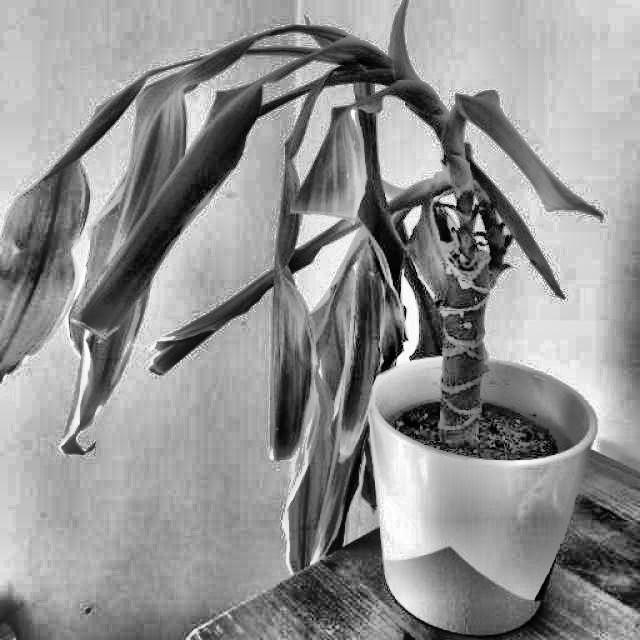plants: (0, 19, 601, 582), (441, 75, 601, 231)
